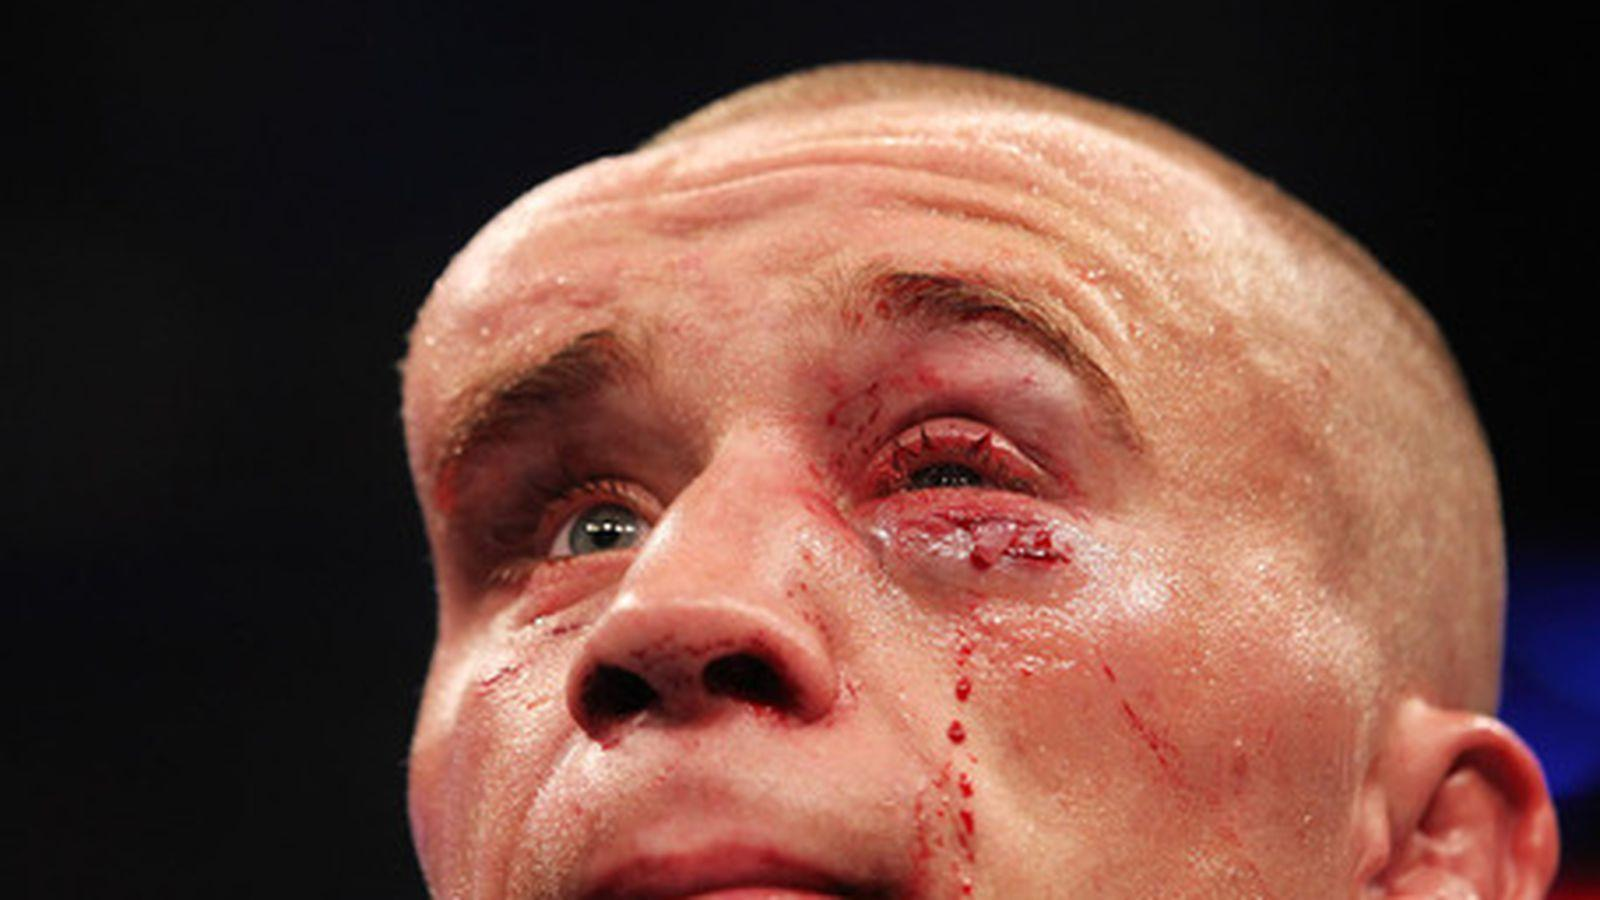Fire: (805, 349, 1089, 605), (911, 618, 992, 900)
